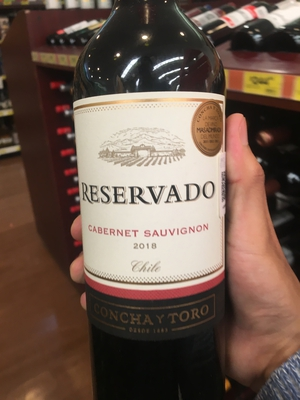reservado cabernet sauvignon: (67, 12, 240, 400)
